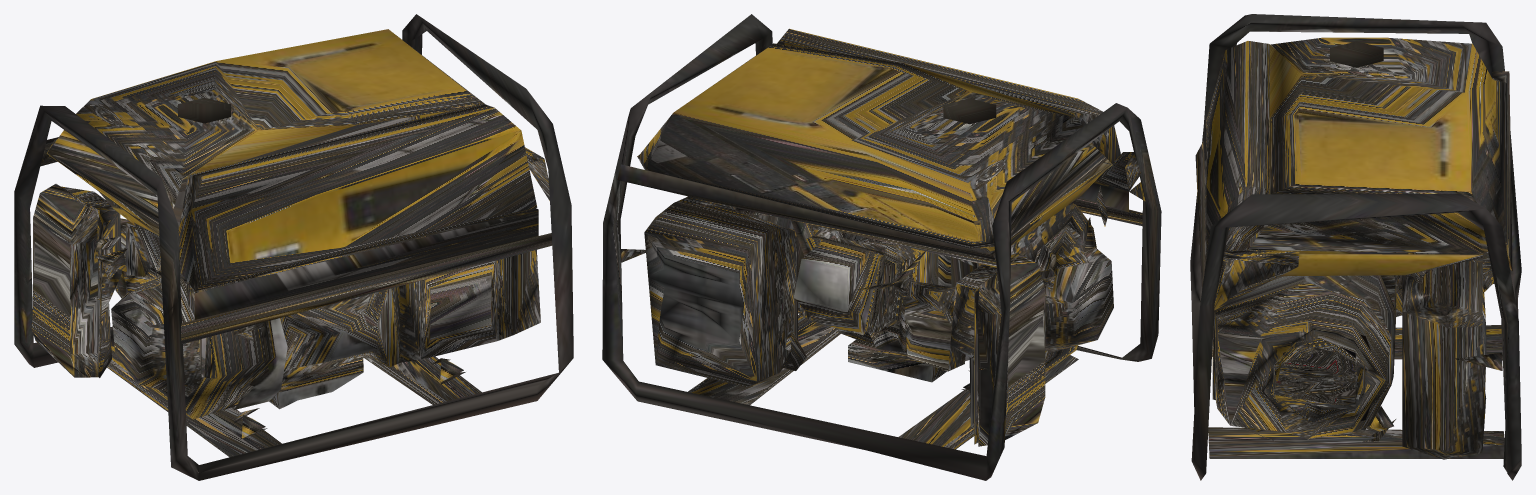
Rendered from portable_generator_game.gltf.
3 renders of one model, left to right at view 1: azimuth 30°, elevation 25°; view 2: azimuth 150°, elevation 25°; view 3: azimuth 270°, elevation 25°, orthographic.
Parts seen in each view (by area): view 1: portable_generator; view 2: portable_generator; view 3: portable_generator.
Part boxes in pixels (x1,y1,x2,y2): portable_generator: [14, 14, 573, 480]; portable_generator: [602, 14, 1161, 480]; portable_generator: [1190, 14, 1521, 480].
Bounding box in the file's own units: 0.81 × 0.5608 × 0.5615.
Materials: 2 (2 with a texture image).
